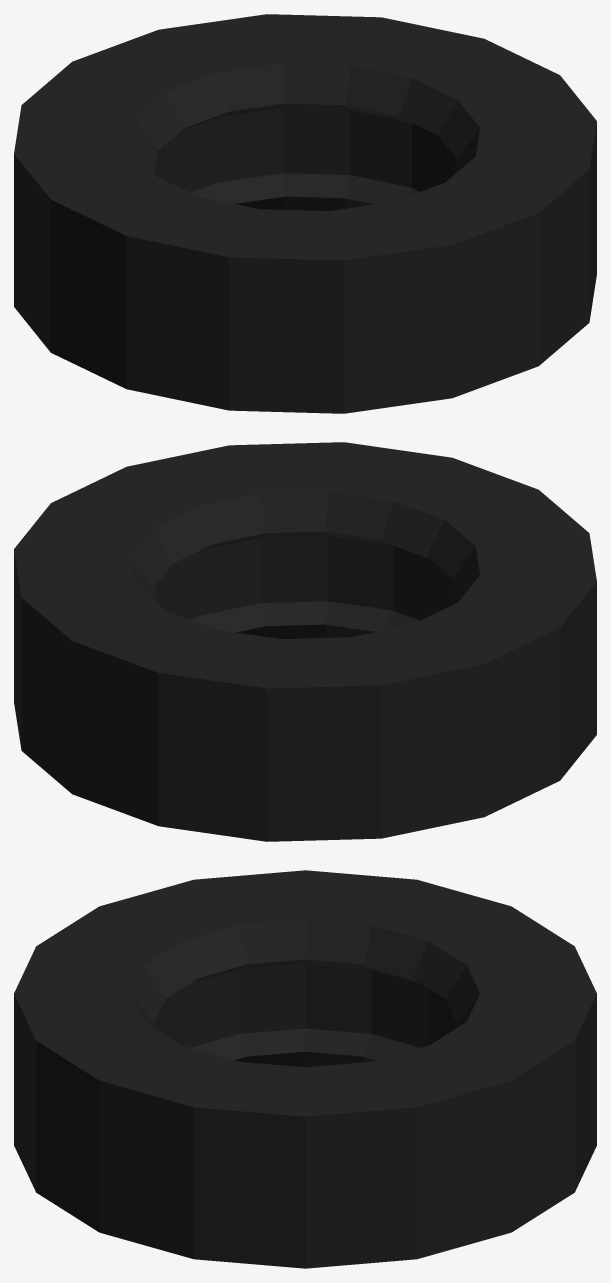
The model's file is tire.glb.
3 views of the same model, one above another, from view 1: azimuth 30°, elevation 25°; view 2: azimuth 150°, elevation 25°; view 3: azimuth 270°, elevation 25° (orthographic).
Visible parts, largest first — view 1: Tire; view 2: Tire; view 3: Tire.
Boxes of the visible parts, <box> form: Tire: <box>14,14,596,413</box>; Tire: <box>14,442,596,841</box>; Tire: <box>14,870,596,1268</box>.
Size of the model in its own units: 0.7727 by 0.2223 by 0.7727.
Materials: 1 (1 with a texture image).
